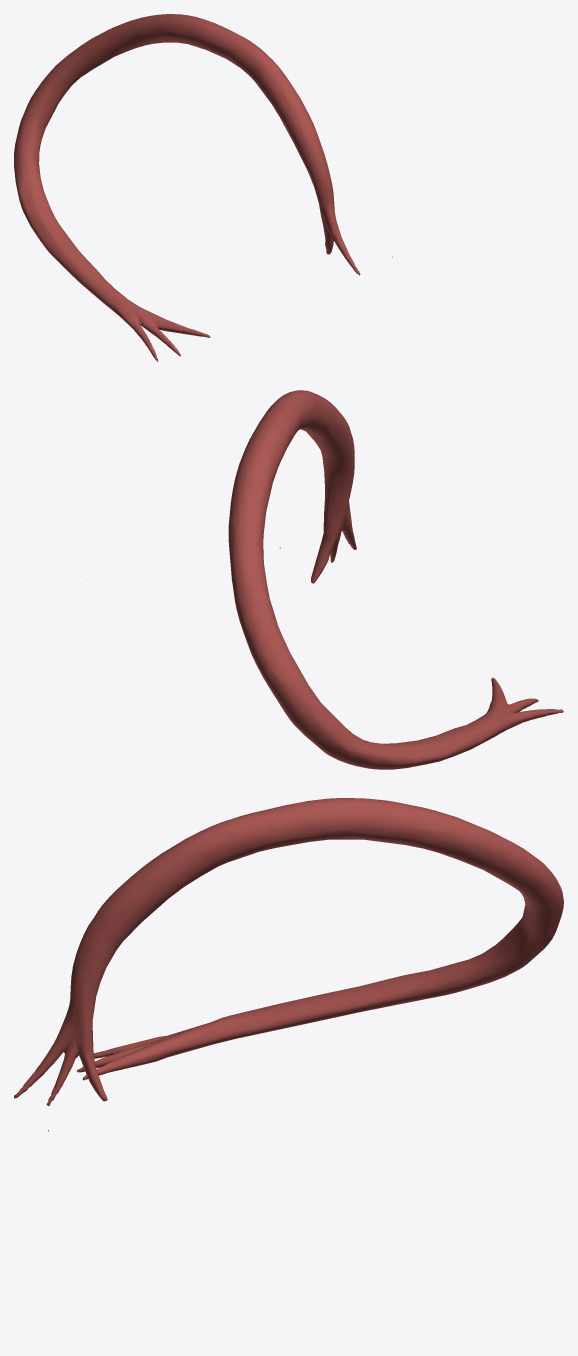
Rendered from FMA72939.glb.
The picture shows the model from 3 angles, top to bottom: view 1: azimuth 30°, elevation 25°; view 2: azimuth 150°, elevation 25°; view 3: azimuth 270°, elevation 25°; orthographic projection. The views are drawn at different scales.
Visible parts, largest first — view 1: FMA72939; view 2: FMA72939; view 3: FMA72939.
Boxes of the visible parts, x1=… form: FMA72939: x1=14, y1=14, x2=392, y2=361; FMA72939: x1=228, y1=390, x2=563, y2=769; FMA72939: x1=14, y1=798, x2=563, y2=1131.
Bounding box in the file's own units: 0.0521 × 0.0292 × 0.0413.
